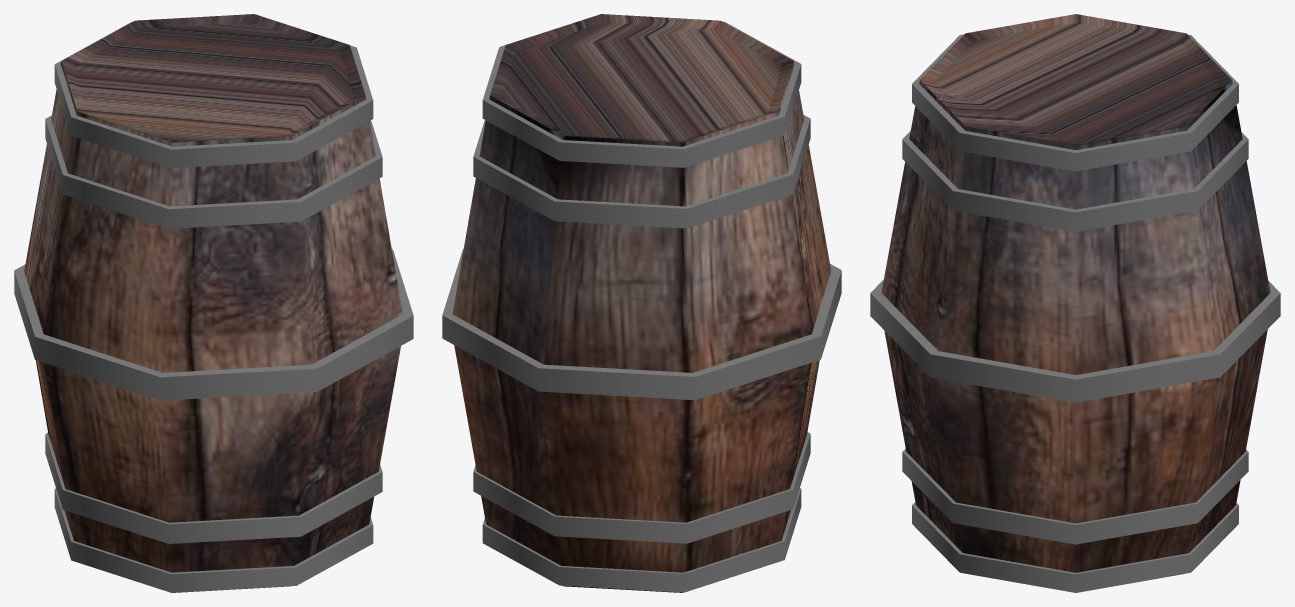
Rendered from Barrell_Beer.fbx.
The picture shows the model from 3 angles, left to right: view 1: azimuth 30°, elevation 25°; view 2: azimuth 150°, elevation 25°; view 3: azimuth 270°, elevation 25°; orthographic projection.
Visible parts, largest first — view 1: Cylinder001, Cylinder007, Cylinder005, Cylinder004, Cylinder006, Cylinder003; view 2: Cylinder001, Cylinder007, Cylinder005, Cylinder004, Cylinder006, Cylinder003; view 3: Cylinder001, Cylinder007, Cylinder005, Cylinder004, Cylinder006, Cylinder003.
Boxes of the visible parts, left/top/right/bottom form: Cylinder001: left=24, top=14, right=402, bottom=592; Cylinder007: left=14, top=249, right=413, bottom=400; Cylinder005: left=45, top=115, right=382, bottom=228; Cylinder004: left=54, top=22, right=373, bottom=168; Cylinder006: left=45, top=432, right=382, bottom=543; Cylinder003: left=54, top=488, right=373, bottom=592; Cylinder001: left=452, top=14, right=831, bottom=592; Cylinder007: left=442, top=249, right=841, bottom=400; Cylinder005: left=473, top=114, right=810, bottom=228; Cylinder004: left=482, top=21, right=801, bottom=167; Cylinder006: left=473, top=432, right=810, bottom=543; Cylinder003: left=482, top=488, right=801, bottom=592; Cylinder001: left=881, top=14, right=1270, bottom=592; Cylinder007: left=870, top=279, right=1280, bottom=402; Cylinder005: left=902, top=131, right=1248, bottom=231; Cylinder004: left=912, top=34, right=1238, bottom=171; Cylinder006: left=902, top=449, right=1248, bottom=544; Cylinder003: left=912, top=502, right=1238, bottom=592.
Bounding box in the file's own units: 0.8315 × 1 × 0.8315.
2 materials, 1 textured.
